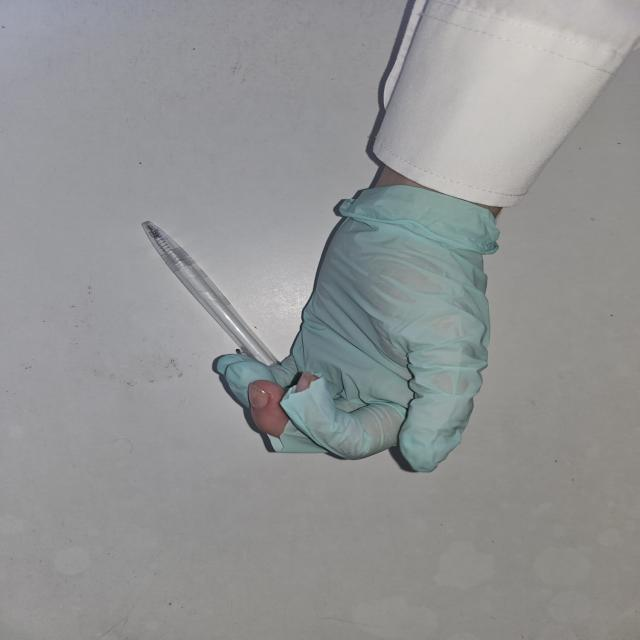gloves_damaged: (209, 182, 504, 476)
